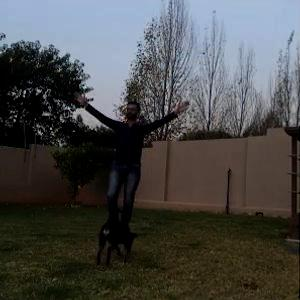takeoff: (48, 63, 191, 240)
